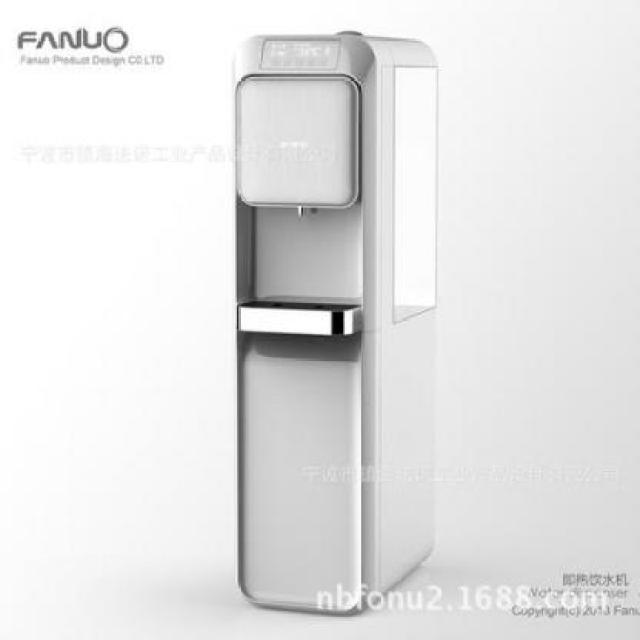cooler: (228, 29, 440, 620)
